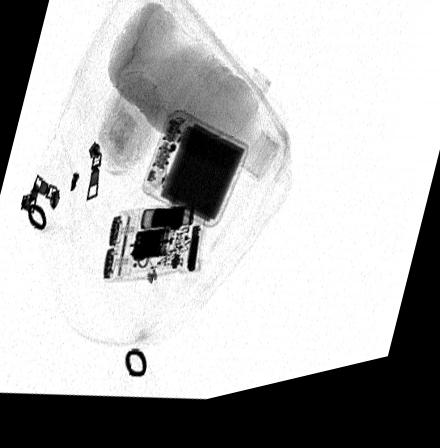Powerbank: (143, 117, 249, 238)
